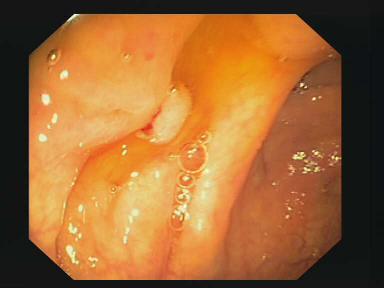polyp: (126, 70, 206, 142)
